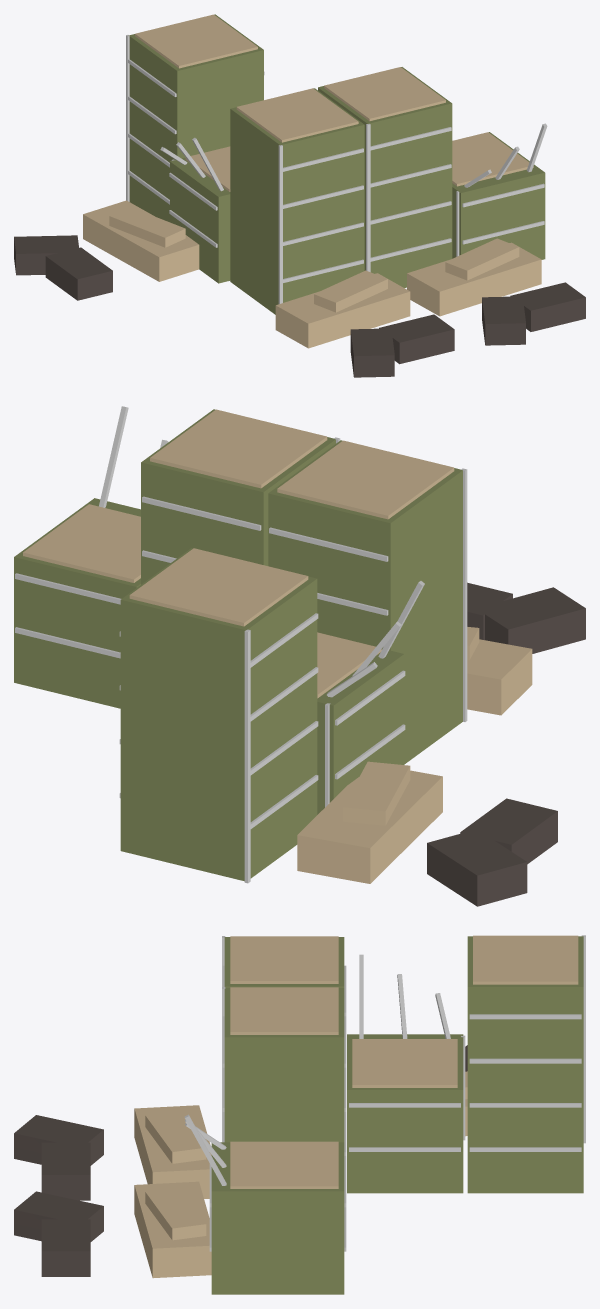
Rendered from SM_HescoEsquina_v0_MallaLimpia_e1_Danado_LOD0.fbx.
3 views of the same model, one above another, from view 1: azimuth 30°, elevation 25°; view 2: azimuth 150°, elevation 25°; view 3: azimuth 270°, elevation 25° (orthographic). The views are drawn at different scales.
Visible parts, largest first — view 1: SM_hesco_piezas_v1_LOD0; view 2: SM_hesco_piezas_v1_LOD0; view 3: SM_hesco_piezas_v1_LOD0.
Boxes of the visible parts, <box> form: SM_hesco_piezas_v1_LOD0: <box>14,14,585,377</box>; SM_hesco_piezas_v1_LOD0: <box>14,406,585,906</box>; SM_hesco_piezas_v1_LOD0: <box>14,935,585,1294</box>.
Size of the model in its own units: 5.25 by 2.13 by 5.27.
